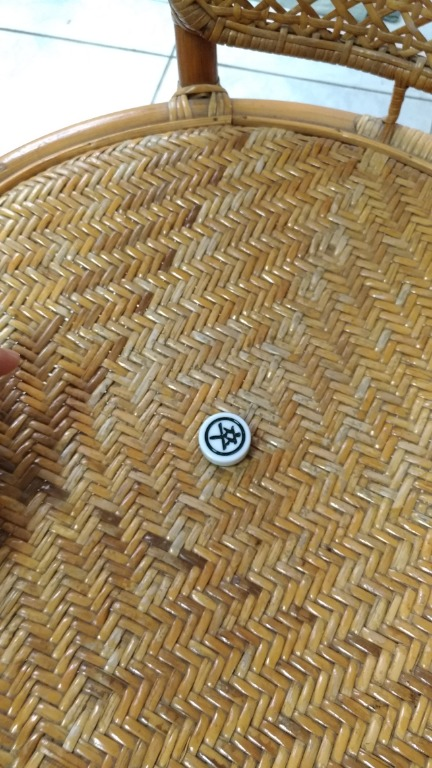b-pawn: (182, 400, 271, 477)
